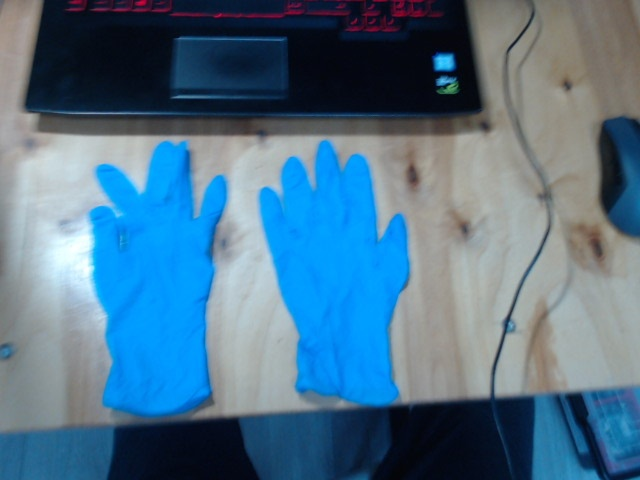medical_glove: (260, 140, 408, 407), (89, 142, 226, 415)
